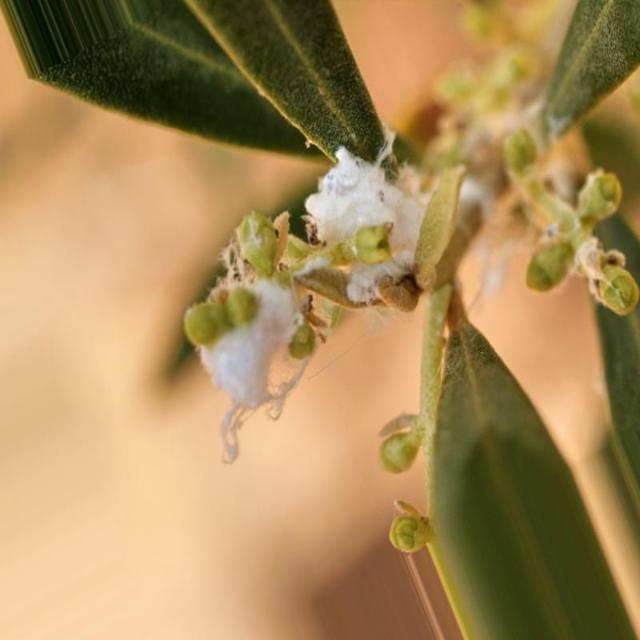Psyllid: (184, 128, 464, 461)
